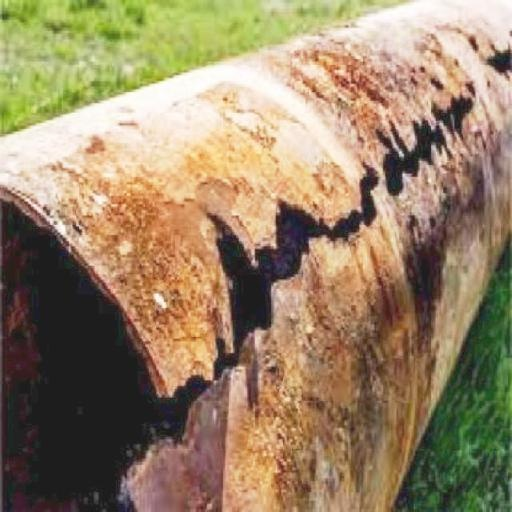corrosion: (96, 156, 184, 318), (283, 33, 386, 106), (219, 398, 260, 512)
crack: (170, 178, 216, 232)
